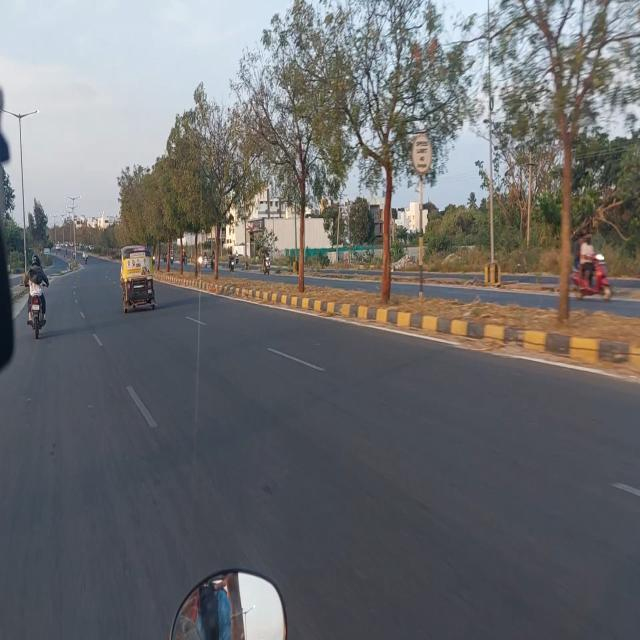bien_cam: (411, 132, 434, 174)
